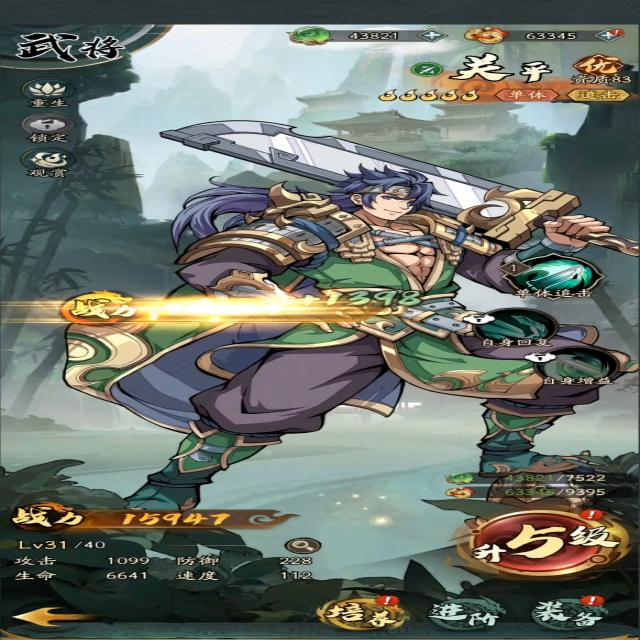hint-reddot: (573, 507, 610, 522), (577, 594, 609, 608), (370, 594, 404, 607), (608, 26, 626, 37)
operation-advanced: (424, 594, 509, 633)
operation-back: (12, 602, 100, 633)
operation-equipment: (532, 593, 614, 633)
operation-levelUp: (453, 503, 632, 579)
operation-train: (314, 590, 415, 635)
skill-multi1-off: (522, 344, 630, 388)
skill-multi2-off: (452, 306, 561, 349)
skill-multi3-on: (495, 252, 613, 301)
